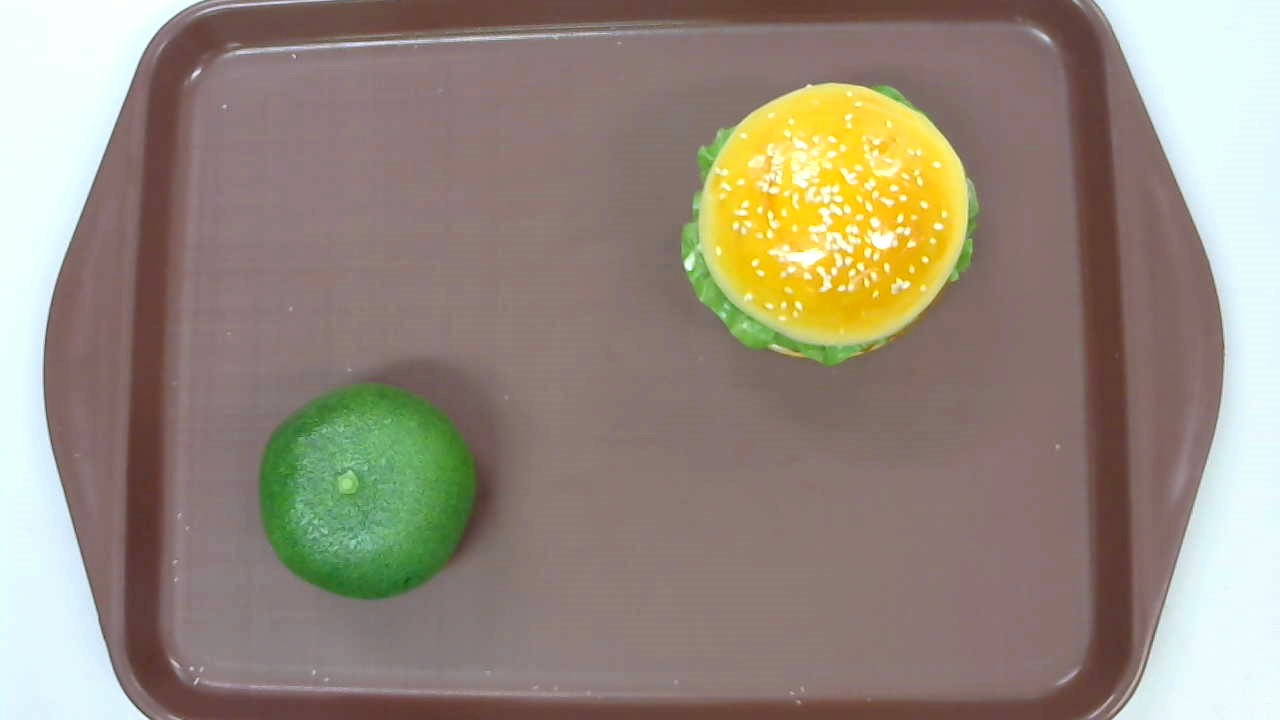green orange: (260, 383, 475, 599)
hamburger: (678, 81, 980, 366)
